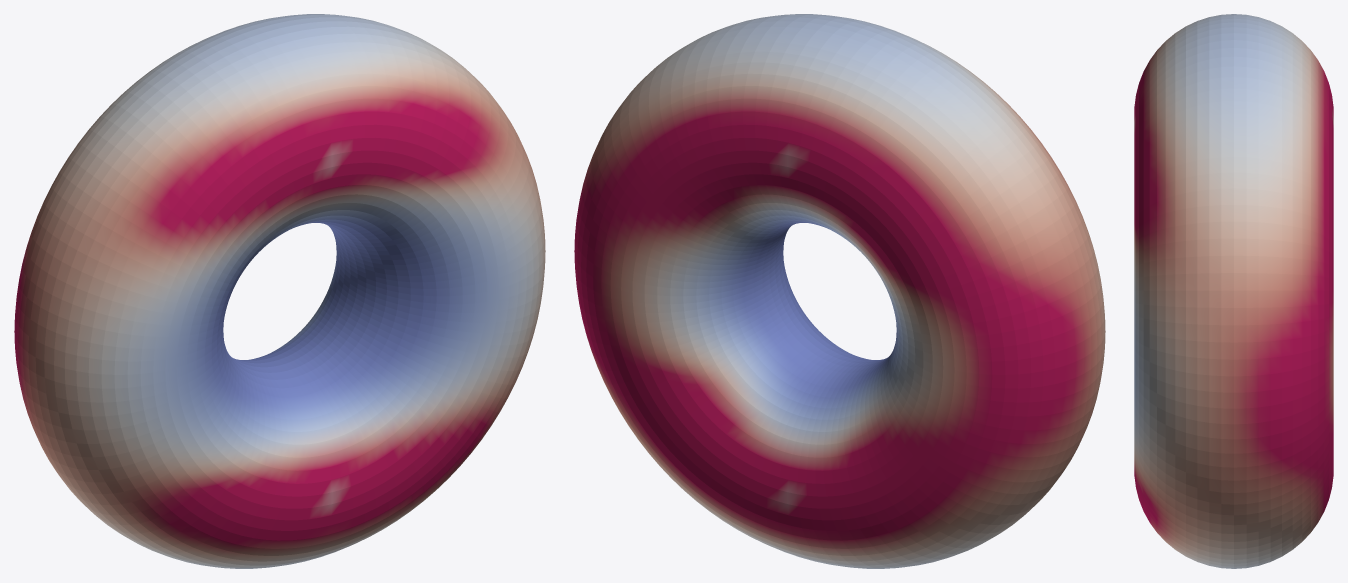
3 views of the same model, side by side, from view 1: azimuth 30°, elevation 25°; view 2: azimuth 150°, elevation 25°; view 3: azimuth 270°, elevation 25° (orthographic). The views are drawn at different scales.
Visible parts, largest first — view 1: world; view 2: world; view 3: world.
Boxes of the visible parts, <box> form: world: <box>14,14,545,568</box>; world: <box>574,14,1105,568</box>; world: <box>1134,14,1333,568</box>.
Size of the model in its own units: 21.87 by 21.87 by 7.85.
